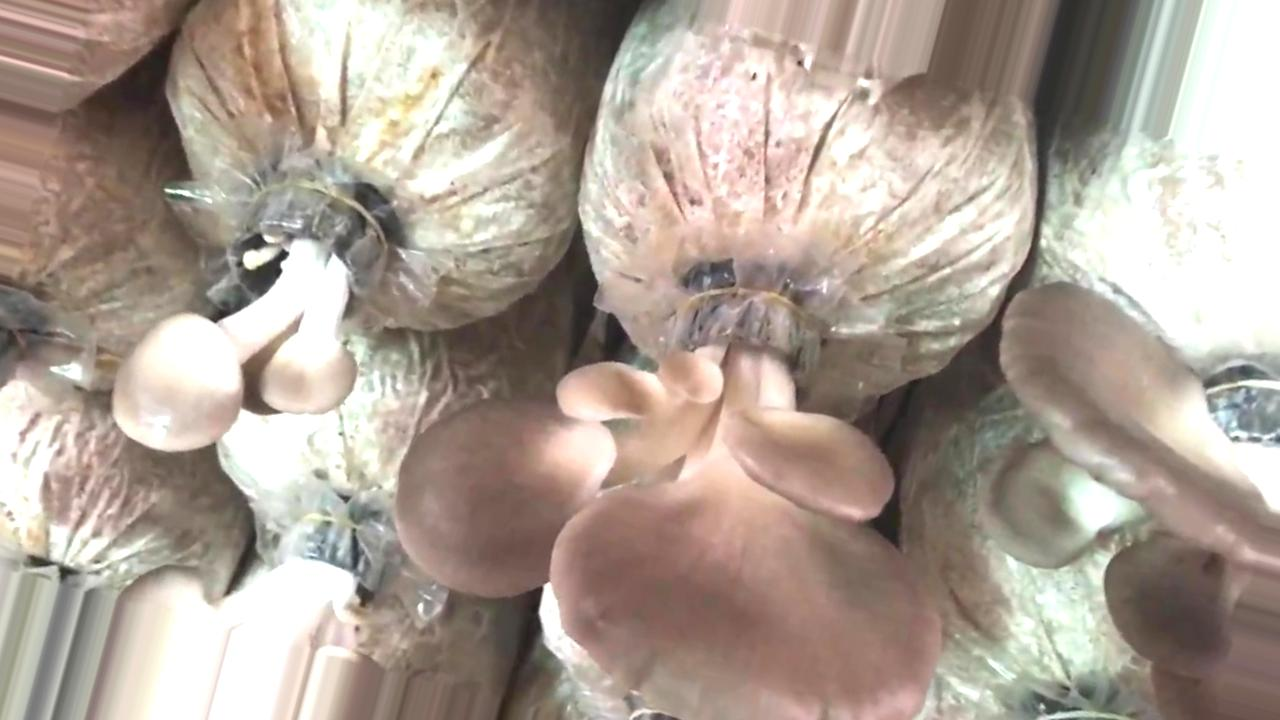nam: (402, 295, 934, 720), (984, 287, 1280, 673), (114, 189, 385, 452)
